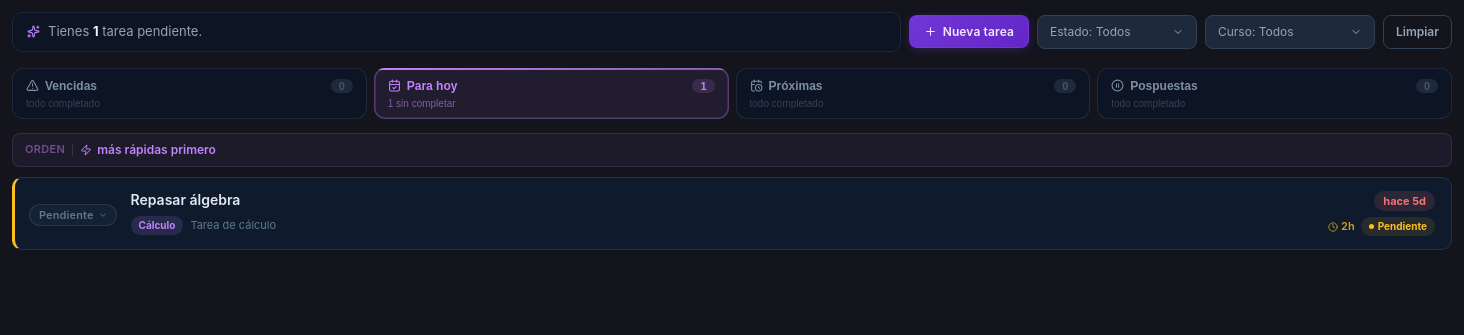
Test: TodayKanban › muestra el estado vacío al cambiar a una pestaña sin tareas
This screenshot has width=1464, height=335.
Click the button with test id "today-tab-upcoming" at (796, 86), box [736,68,1090,118]
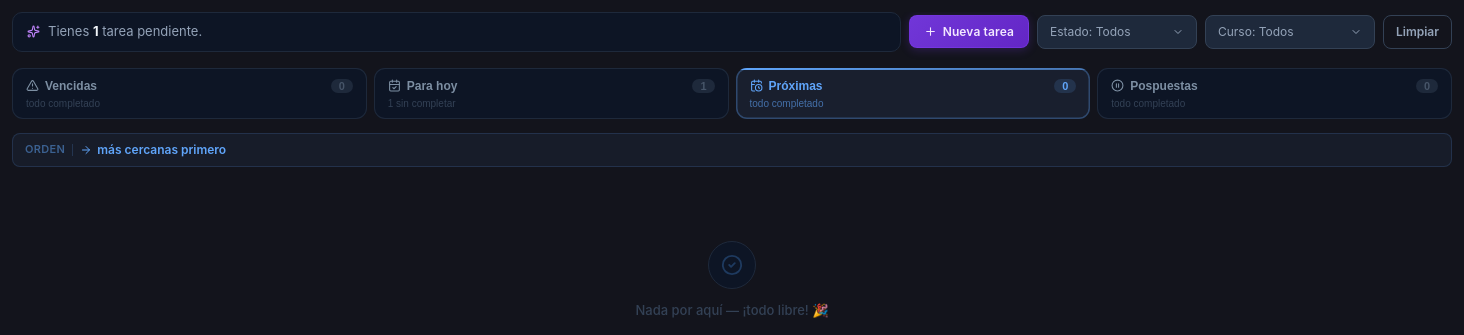
Check: the element with test id "today-empty-state-upcoming" is shown, box [636,240,828,318]
